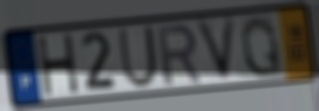2: (82, 29, 120, 95)
H: (34, 32, 82, 100)
Q: (239, 13, 285, 80)
R: (155, 23, 204, 88)
U: (117, 23, 160, 91)
V: (193, 13, 239, 87)
